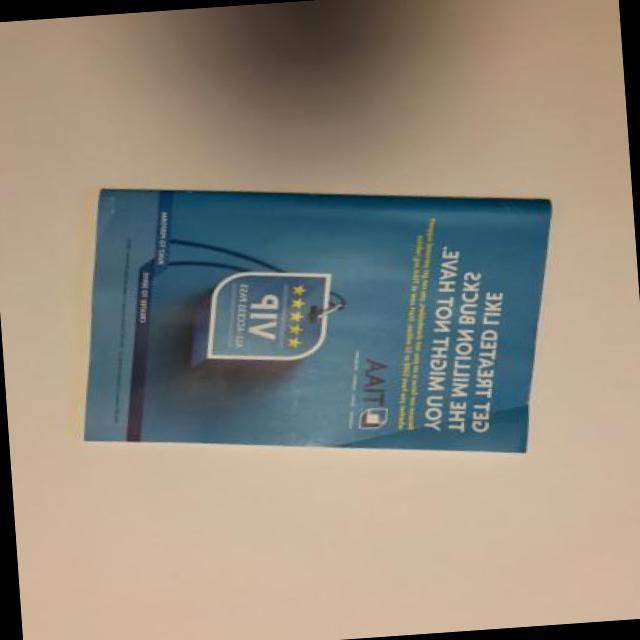paper: (76, 168, 542, 490)
